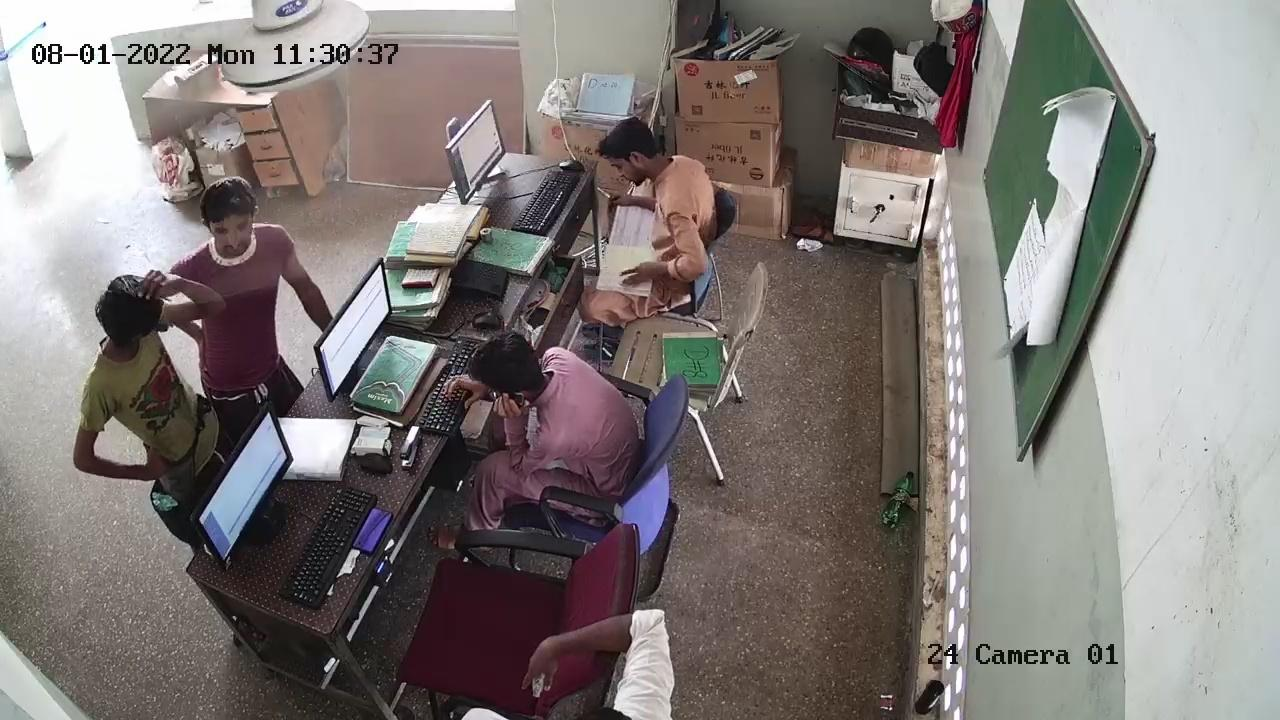person: (164, 187, 287, 408), (91, 282, 205, 488), (479, 330, 627, 483), (592, 113, 702, 315)
